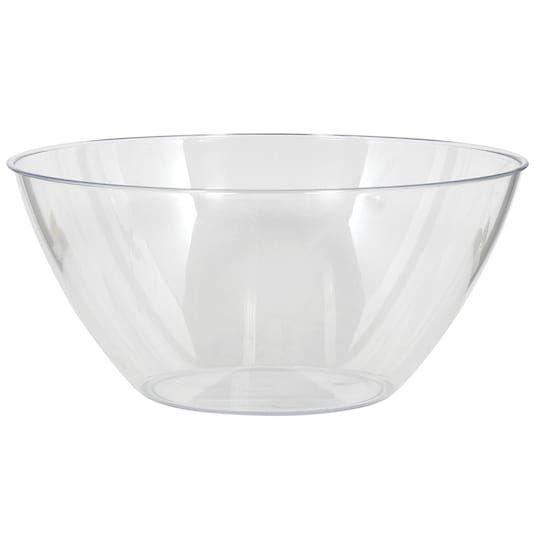PS: (9, 131, 529, 419)
